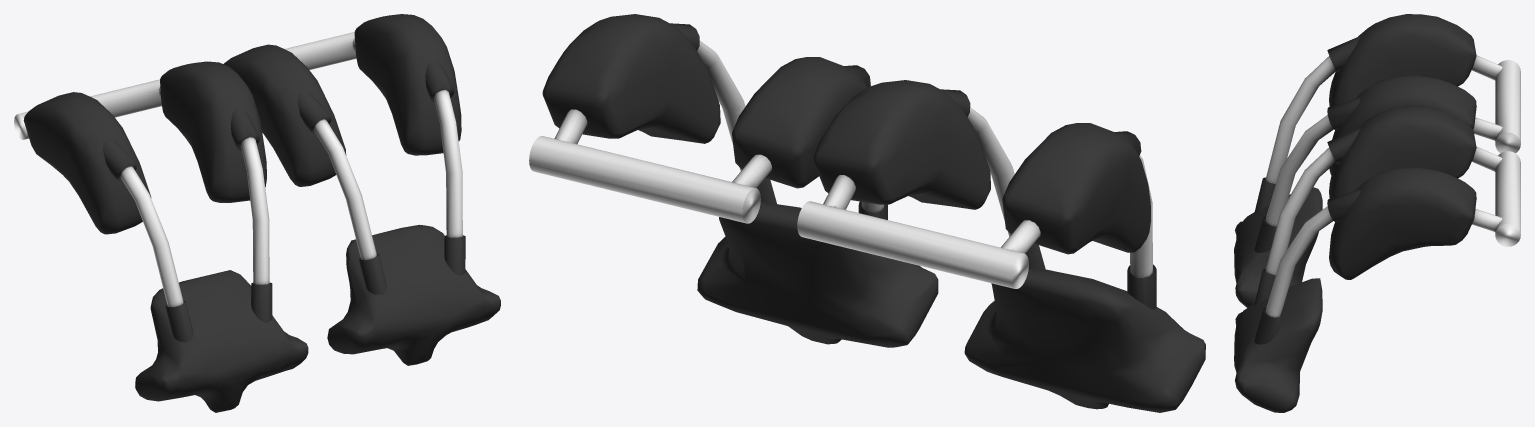
File: toppletower_gurt.fbx
The picture shows the model from 3 angles, left to right: view 1: azimuth 30°, elevation 25°; view 2: azimuth 150°, elevation 25°; view 3: azimuth 270°, elevation 25°; orthographic projection. The views are drawn at different scales.
Visible parts, largest first — view 1: Mesh; view 2: Mesh; view 3: Mesh.
Part boxes in pixels (bbox=[...]): Mesh: bbox=[14, 14, 500, 412]; Mesh: bbox=[529, 14, 1205, 412]; Mesh: bbox=[1234, 14, 1520, 412].
Size of the model in its own units: 92.43 by 62.06 by 61.85.
